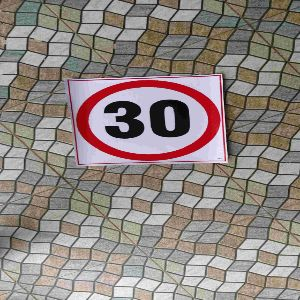speedlimit30: (71, 81, 227, 165)
